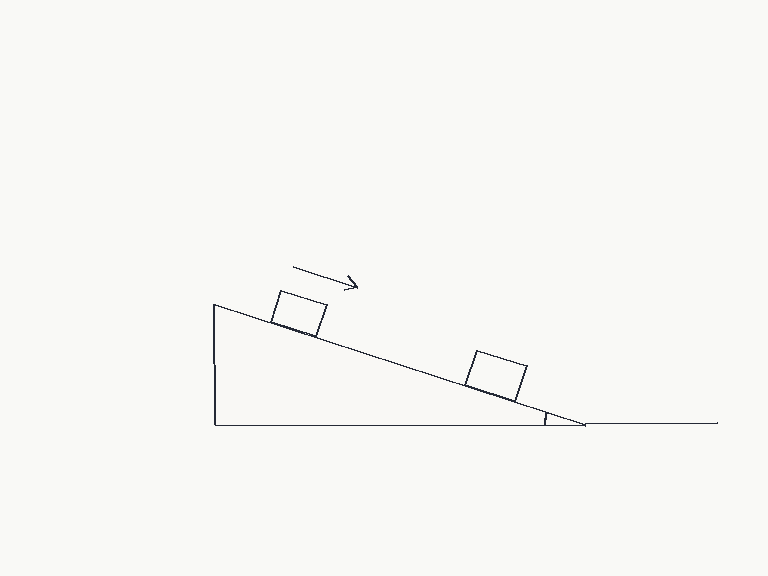block: (463, 348, 527, 403), (269, 288, 328, 338)
ramp: (212, 301, 587, 426)
